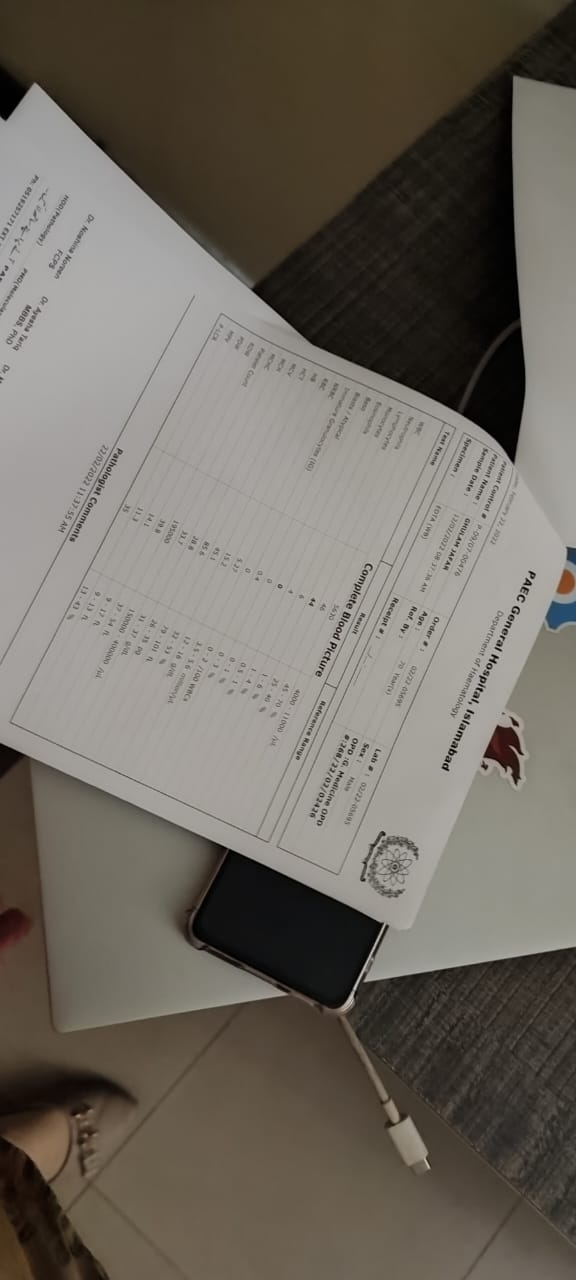report: (1, 321, 460, 844)
